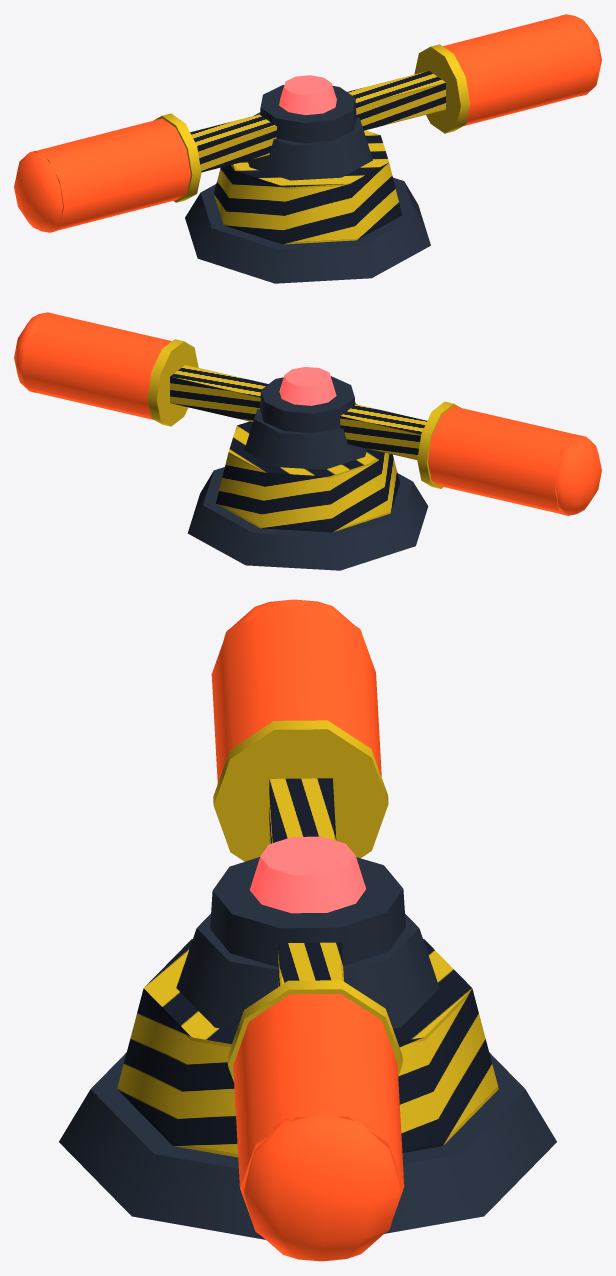
The model's file is spinner_trap.glb.
3 views of the same model, one above another, from view 1: azimuth 30°, elevation 25°; view 2: azimuth 150°, elevation 25°; view 3: azimuth 270°, elevation 25° (orthographic). The views are drawn at different scales.
Parts seen in each view (by area): view 1: spinner_arm, base; view 2: spinner_arm, base; view 3: spinner_arm, base.
Part boxes in pixels (<box>): spinner_arm: <box>14,14,601,232</box>; base: <box>185,112,430,283</box>; spinner_arm: <box>14,312,601,515</box>; base: <box>187,403,428,570</box>; spinner_arm: <box>210,599,405,1261</box>; base: <box>59,914,556,1239</box>.
Bounding box in the file's own units: 4.92 × 1.19 × 1.88.
Materials: 5 (1 with a texture image).
